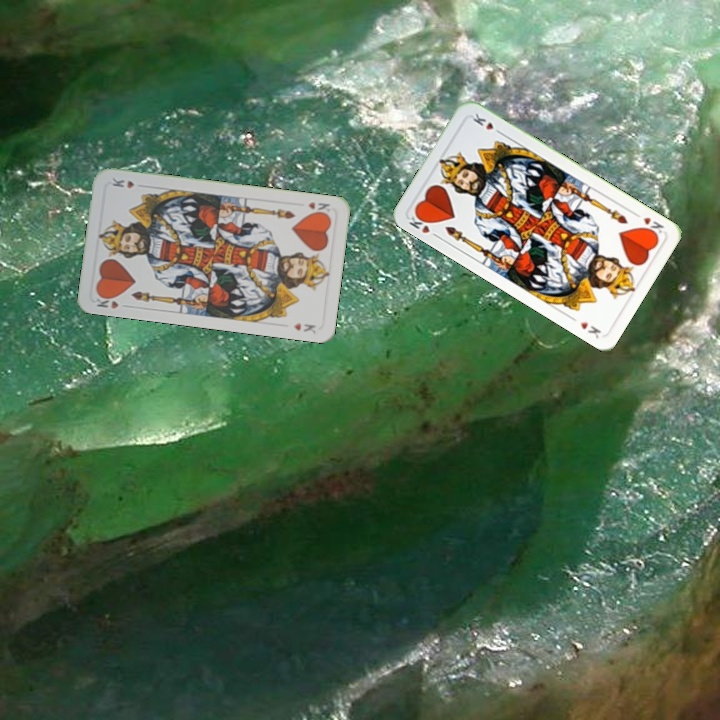HK: (405, 209, 442, 241), (629, 208, 667, 239), (92, 290, 132, 311), (304, 198, 332, 218)
